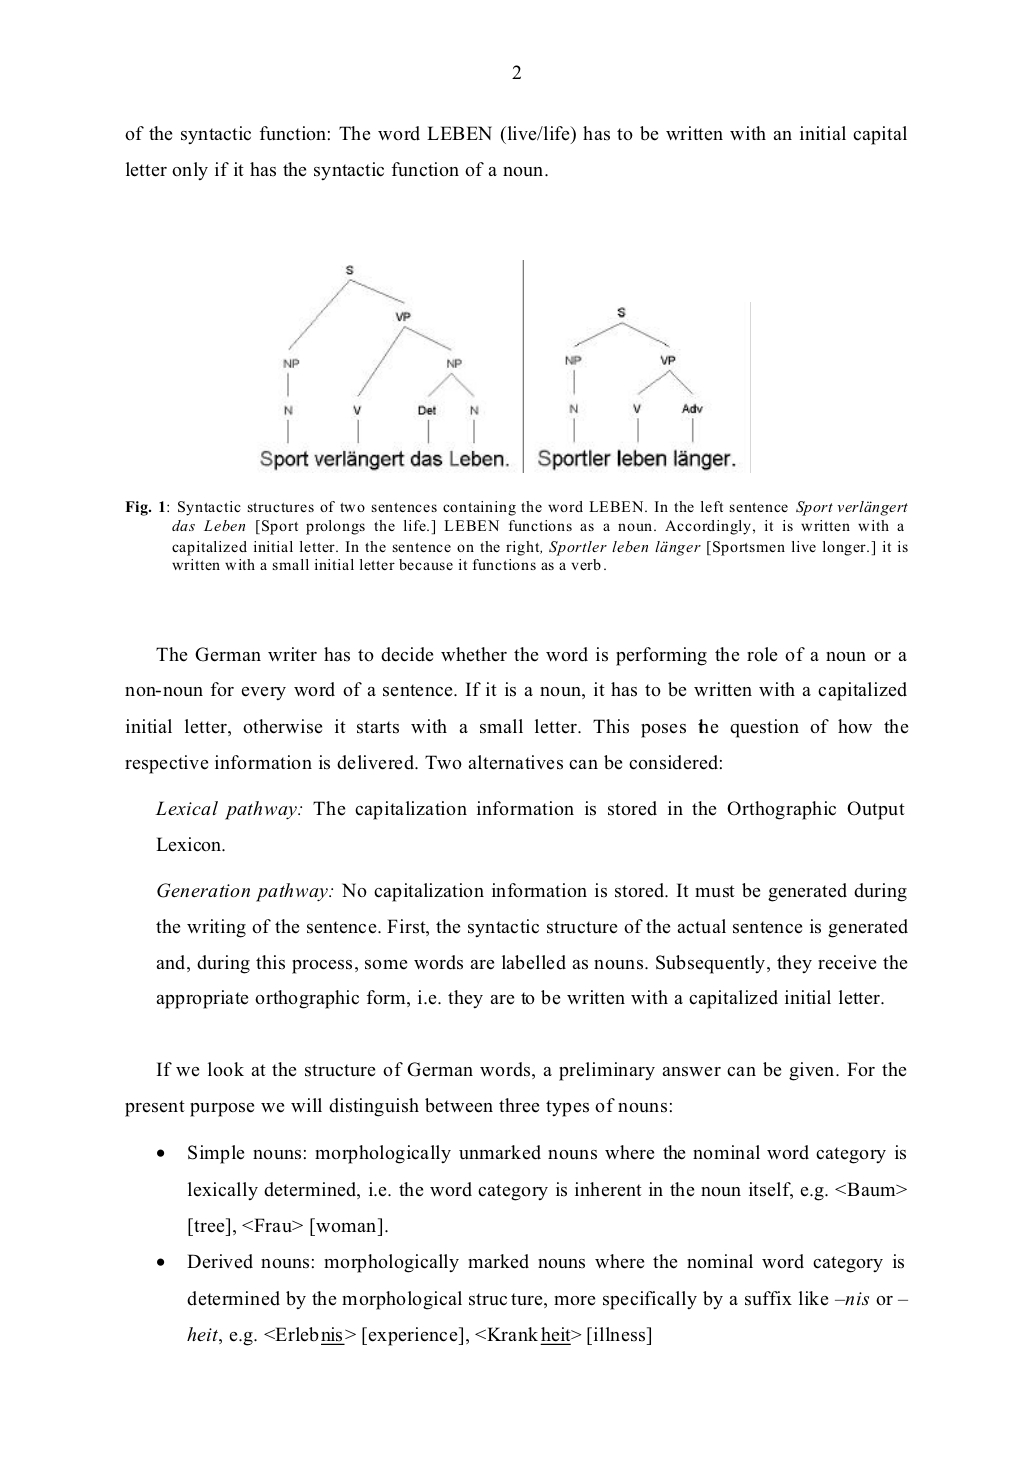figure: (260, 265, 508, 472), (538, 302, 750, 472)
